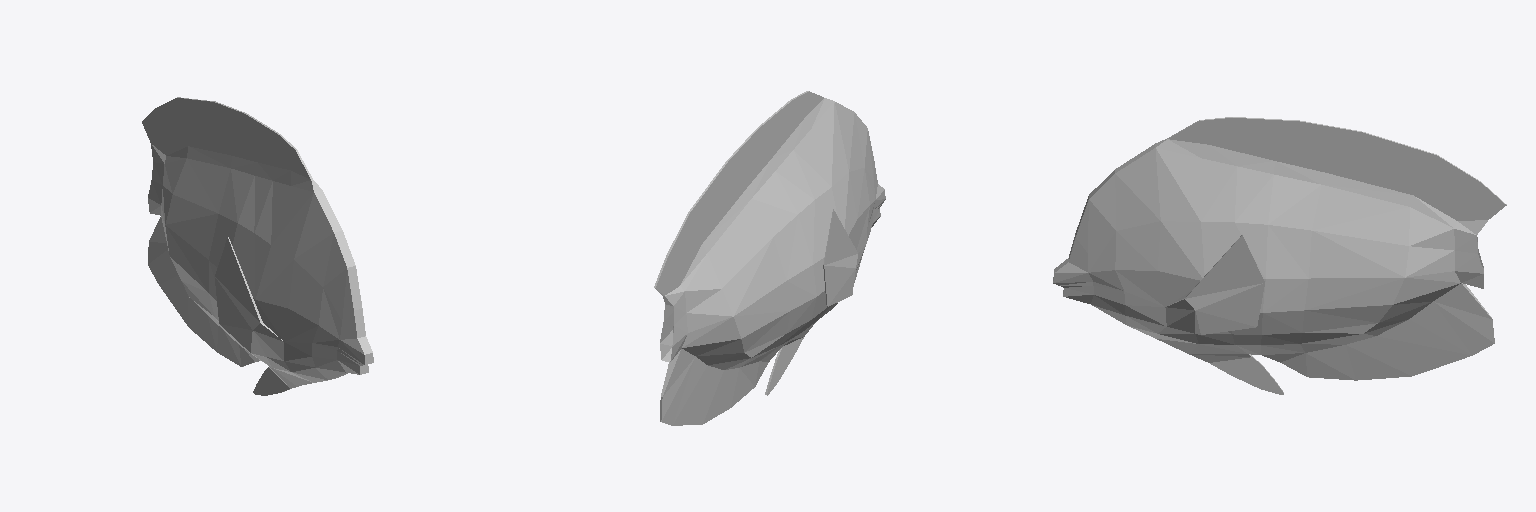
Rendered from cuerpo.obj.
3 views of the same model, side by side, from view 1: azimuth 30°, elevation 25°; view 2: azimuth 150°, elevation 25°; view 3: azimuth 270°, elevation 25° (orthographic).
Parts seen in each view (by area): view 1: polySurface10 polySurface9 TropicalFish04; view 2: polySurface10 polySurface9 TropicalFish04; view 3: polySurface10 polySurface9 TropicalFish04.
Boxes of the visible parts, <box> form: polySurface10 polySurface9 TropicalFish04: <box>142,97,373,395</box>; polySurface10 polySurface9 TropicalFish04: <box>654,91,885,425</box>; polySurface10 polySurface9 TropicalFish04: <box>1053,117,1506,394</box>.
Size of the model in its own units: 0.8761 by 2.38 by 3.53.